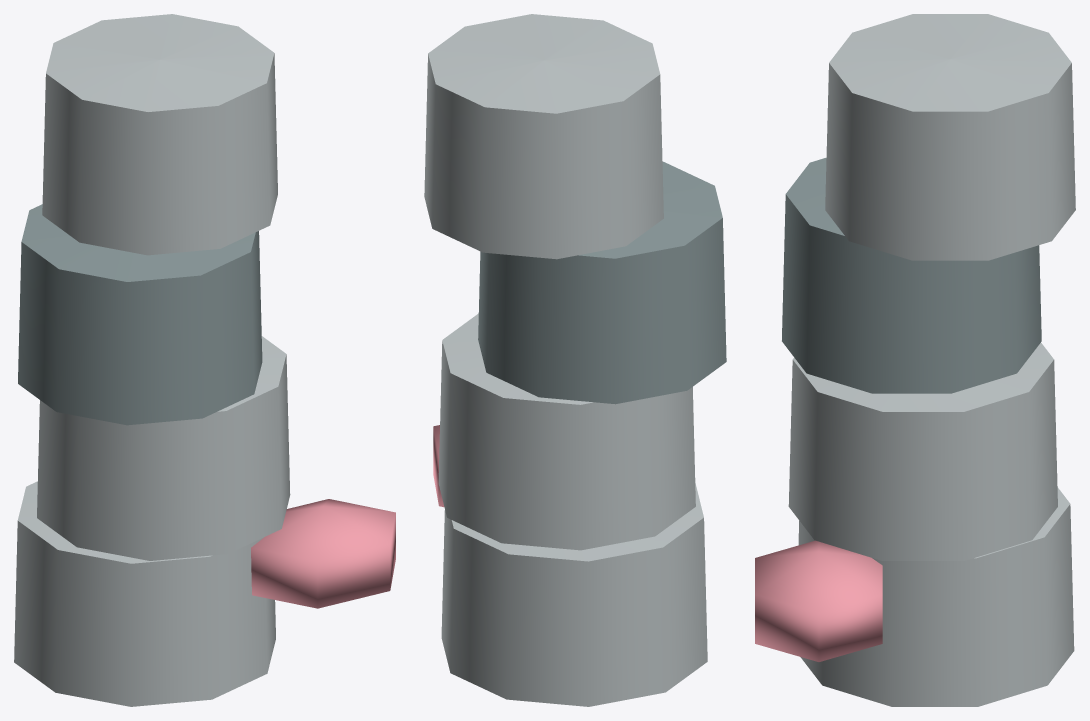
File: sunken-city-and-underwater-ruins-column-drum-stack-7b54892a__36959.glb
3 renders of one model, left to right at view 1: azimuth 30°, elevation 25°; view 2: azimuth 150°, elevation 25°; view 3: azimuth 270°, elevation 25°, orthographic. The views are drawn at different scales.
Visible parts, largest first — view 1: column-drum-stack; view 2: column-drum-stack; view 3: column-drum-stack.
Boxes of the visible parts, x1,y1,x2,y2 form: column-drum-stack: (14, 14, 395, 706); column-drum-stack: (424, 14, 726, 706); column-drum-stack: (755, 14, 1075, 706).
Size of the model in its own units: 0.9747 by 1.72 by 0.829.
